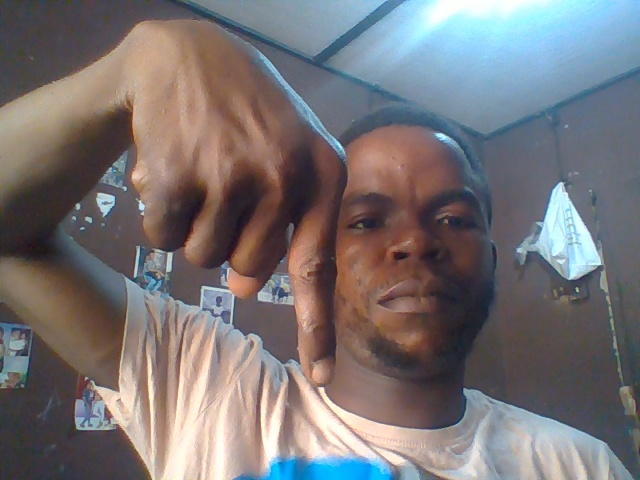Down: (124, 19, 362, 389)
